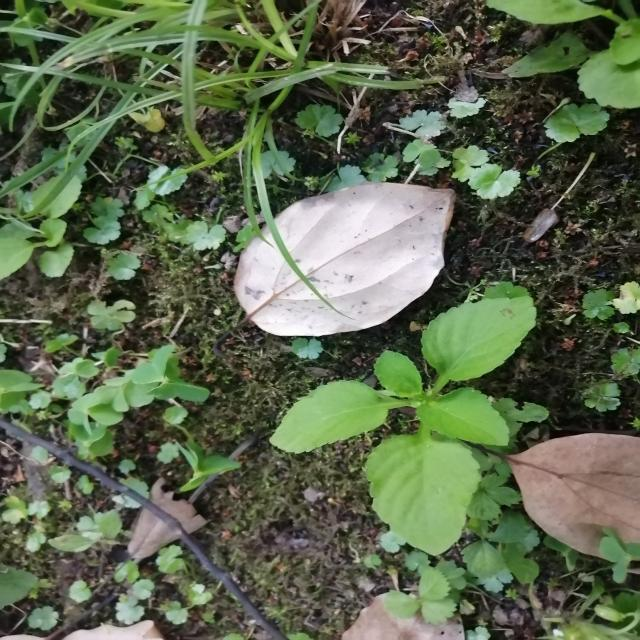Viola: (260, 310, 564, 566)
